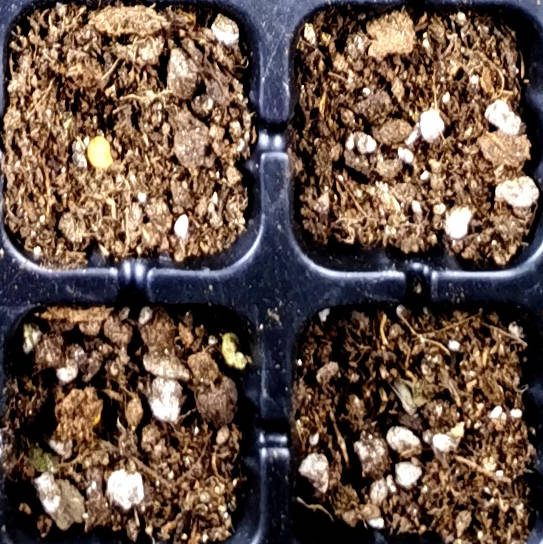pepper seed: (30, 49, 144, 221)
